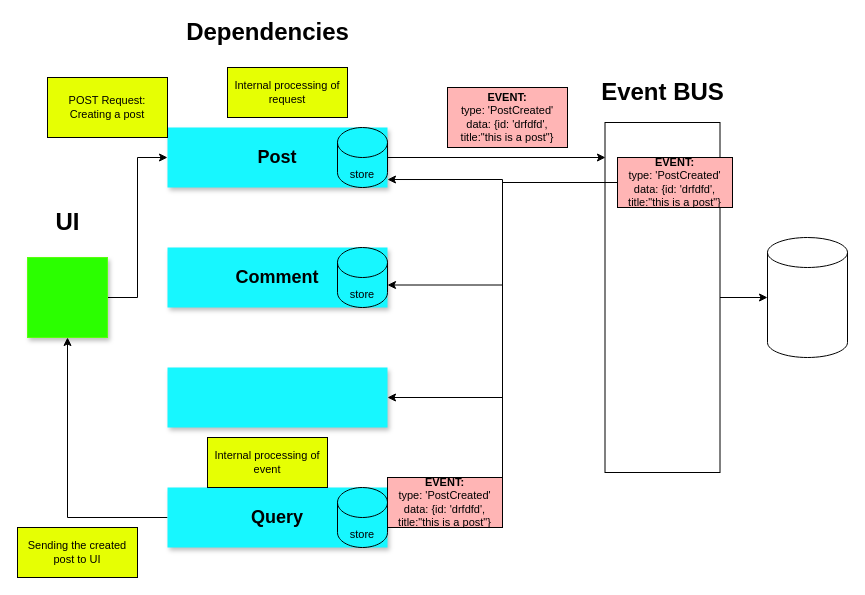
The diagram is 865 pixels wide and 595 high, and some of its shapes have lost their labels. Here are the shapes that lost their labels. From the top down, the centre of each, then its label:
the point at 68,298: React
the point at 807,297: event storage
the point at 278,398: Moderation
